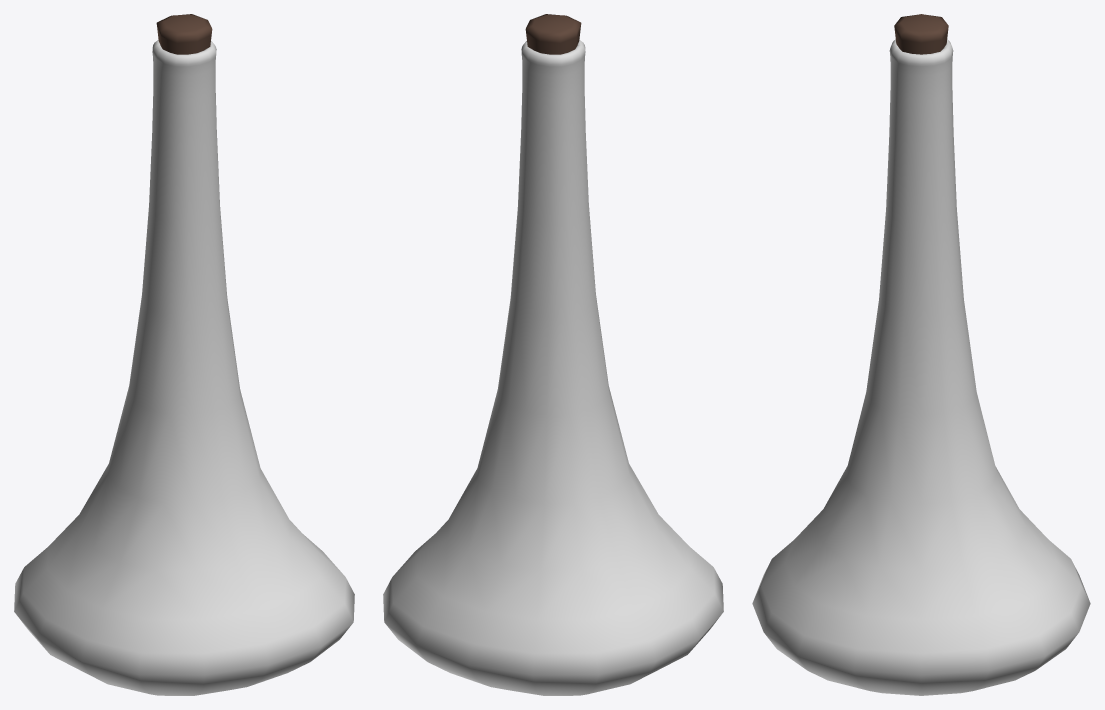
File: potion7_filled.glb
3 renders of one model, left to right at view 1: azimuth 30°, elevation 25°; view 2: azimuth 150°, elevation 25°; view 3: azimuth 270°, elevation 25°, orthographic.
Visible parts, largest first — view 1: Potion7_Filled; view 2: Potion7_Filled; view 3: Potion7_Filled.
Boxes of the visible parts, x1,y1,x2,y2 form: Potion7_Filled: [14, 14, 354, 695]; Potion7_Filled: [383, 14, 723, 695]; Potion7_Filled: [752, 14, 1090, 695].
Bounding box in the file's own units: 0.7035 × 1.51 × 0.7035.
